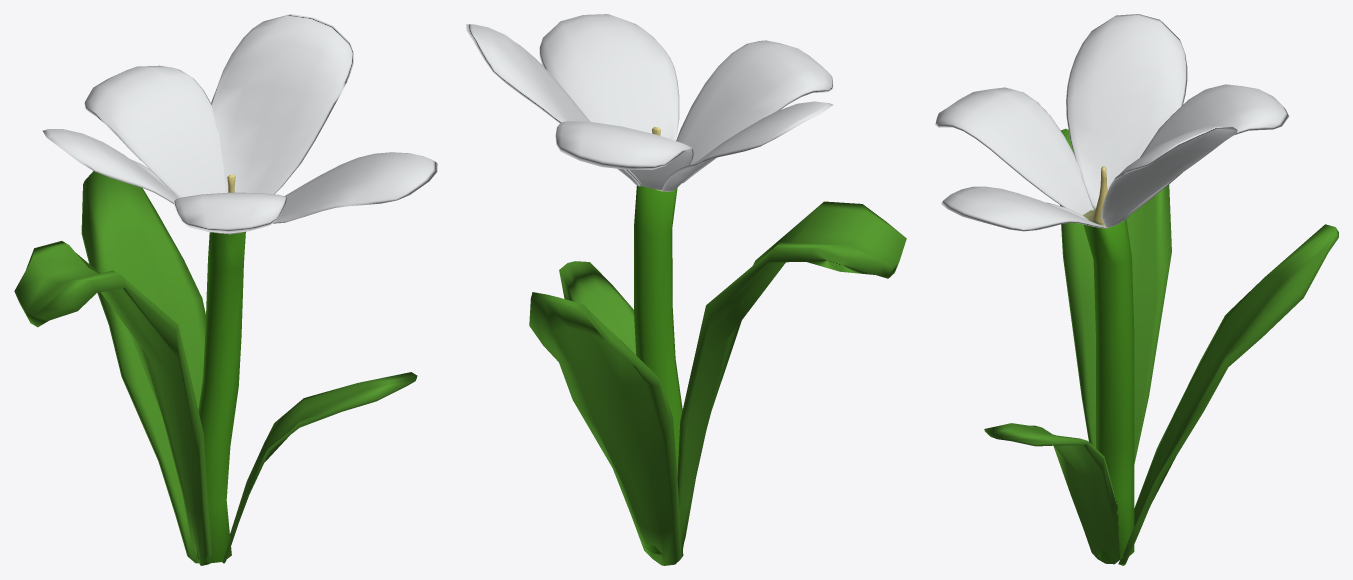
File: viola_persicifolia.fbx
3 renders of one model, left to right at view 1: azimuth 30°, elevation 25°; view 2: azimuth 150°, elevation 25°; view 3: azimuth 270°, elevation 25°, orthographic. The views are drawn at different scales.
Visible parts, largest first — view 1: Leave2.002, Leave.003; view 2: Leave2.002, Leave.003; view 3: Leave2.002, Leave.003.
Boxes of the visible parts, x1,y1,x2,y2 form: Leave2.002: (14, 171, 417, 565); Leave.003: (43, 14, 437, 234); Leave2.002: (529, 185, 906, 565); Leave.003: (466, 14, 833, 191); Leave2.002: (984, 128, 1338, 565); Leave.003: (935, 14, 1289, 231).
Bounding box in the file's own units: 49.54 × 63.25 × 46.24.
